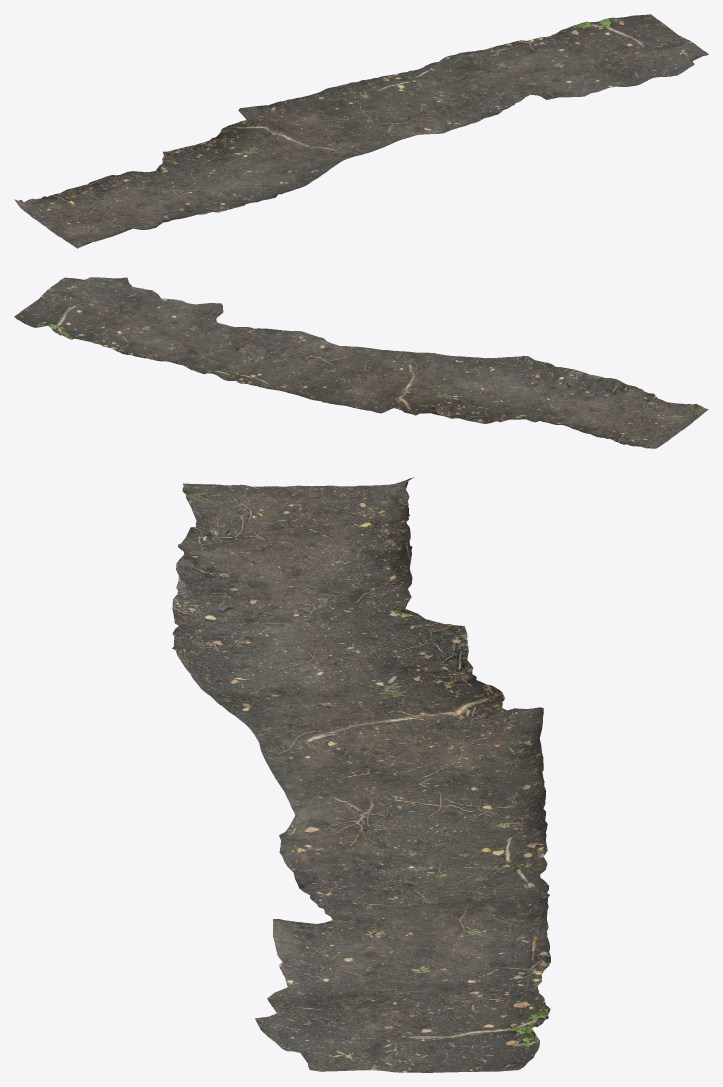
Rendered from sm_Ground_04_06.fbx.
3 renders of one model, top to bottom at view 1: azimuth 30°, elevation 25°; view 2: azimuth 150°, elevation 25°; view 3: azimuth 270°, elevation 25°, orthographic. The views are drawn at different scales.
Parts seen in each view (by area): view 1: sm_Ground_04_06_LOD0; view 2: sm_Ground_04_06_LOD0; view 3: sm_Ground_04_06_LOD0.
Part boxes in pixels (box(x1,y1,x2,y2)): sm_Ground_04_06_LOD0: box(14, 14, 708, 248); sm_Ground_04_06_LOD0: box(14, 277, 708, 448); sm_Ground_04_06_LOD0: box(172, 477, 550, 1072).
Bounding box in the file's own units: 700 × 187 × 13.25.
